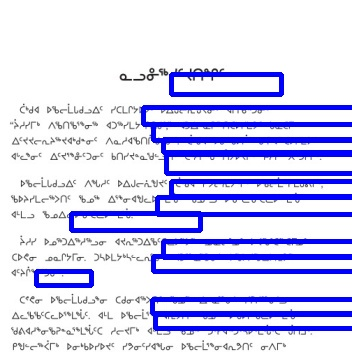inuktitut: (9, 145, 323, 164), (9, 189, 306, 206), (18, 173, 325, 189), (17, 233, 309, 249), (11, 116, 296, 132), (17, 99, 270, 116), (10, 249, 296, 264), (10, 307, 300, 321), (10, 133, 317, 146), (18, 292, 287, 306), (116, 64, 226, 84), (7, 205, 136, 222), (9, 264, 64, 278)
